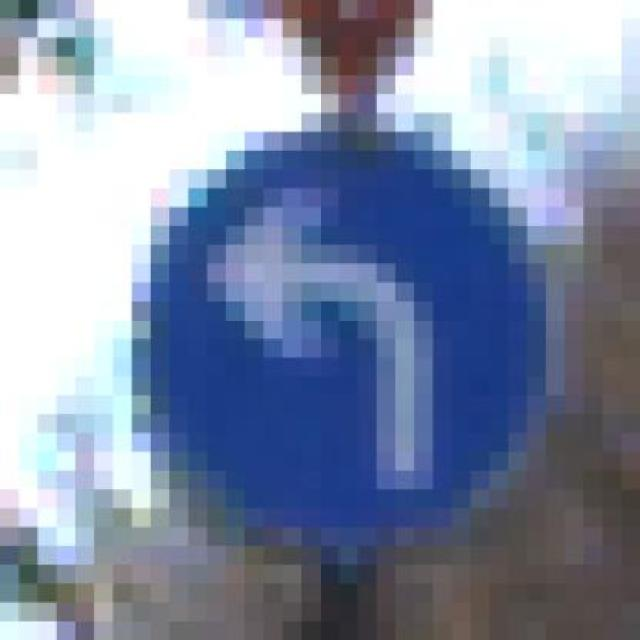Turn left ahead: (93, 112, 564, 565)
